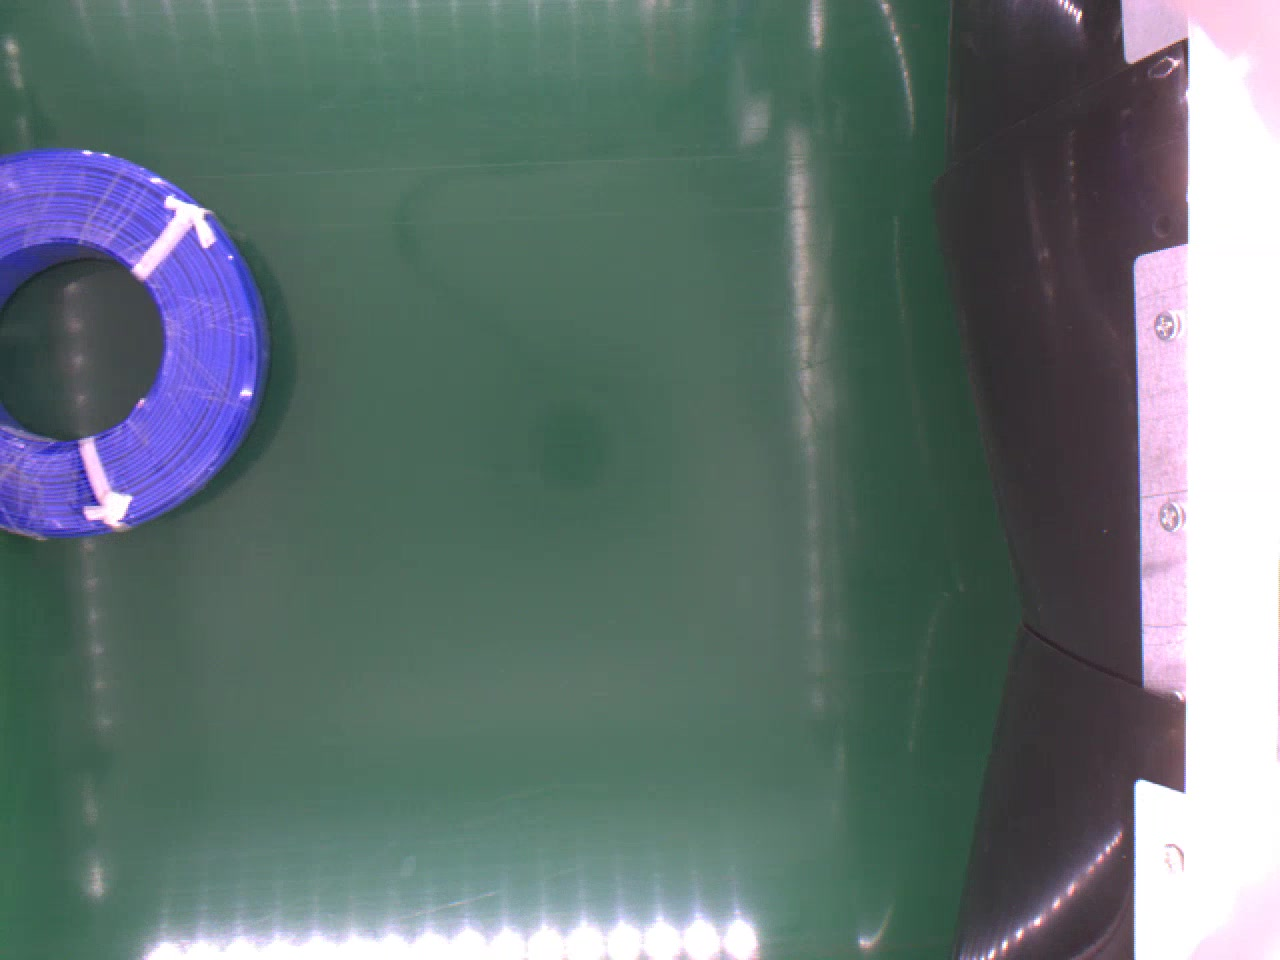blue: (0, 144, 270, 534)
